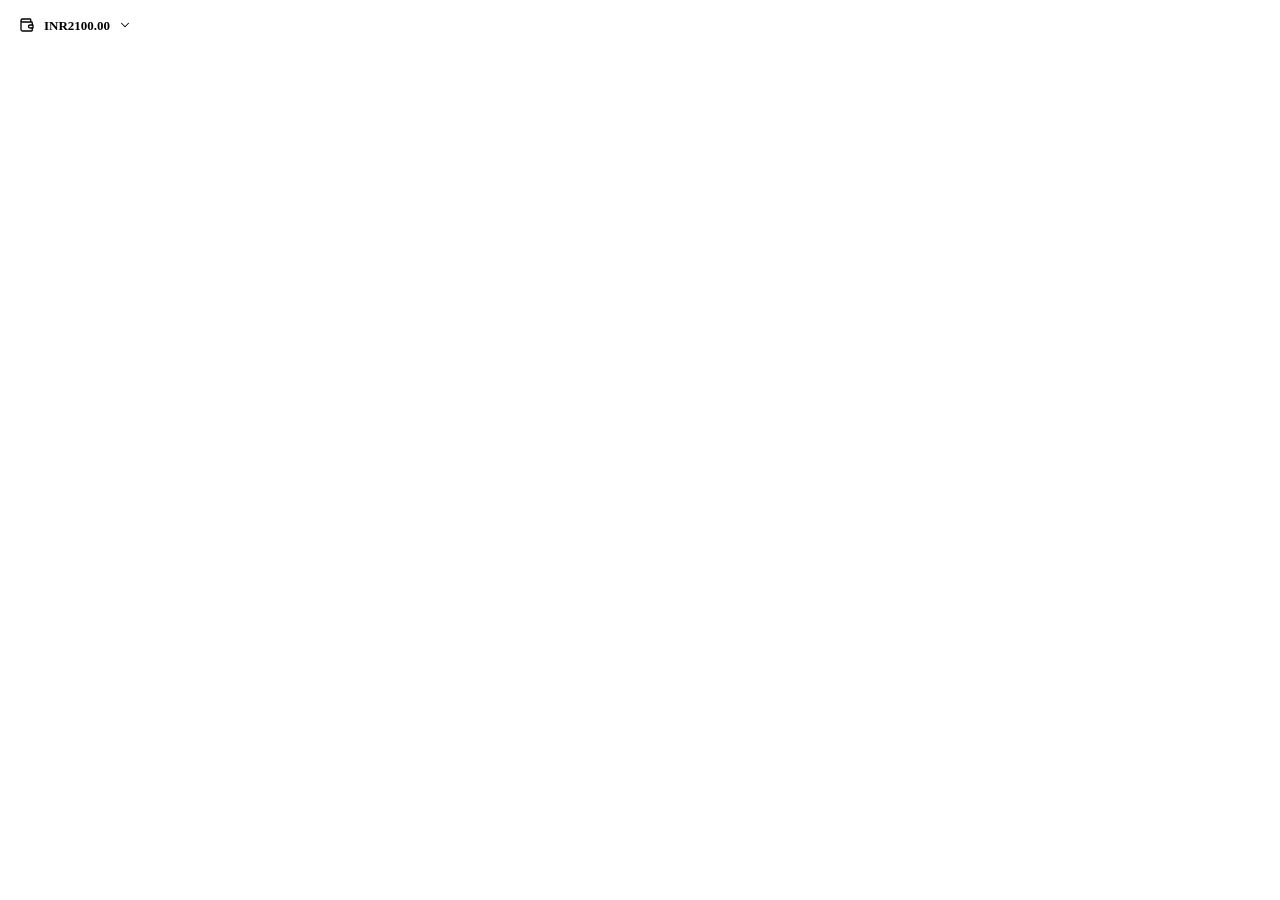
it: AgentSharingWalletView › opens a popover with the header, the current-period total and per-domain figures, no tabs or footer
The image size is (1280, 900).
Click the button.
click(75, 25)  # box [8,8,142,42]
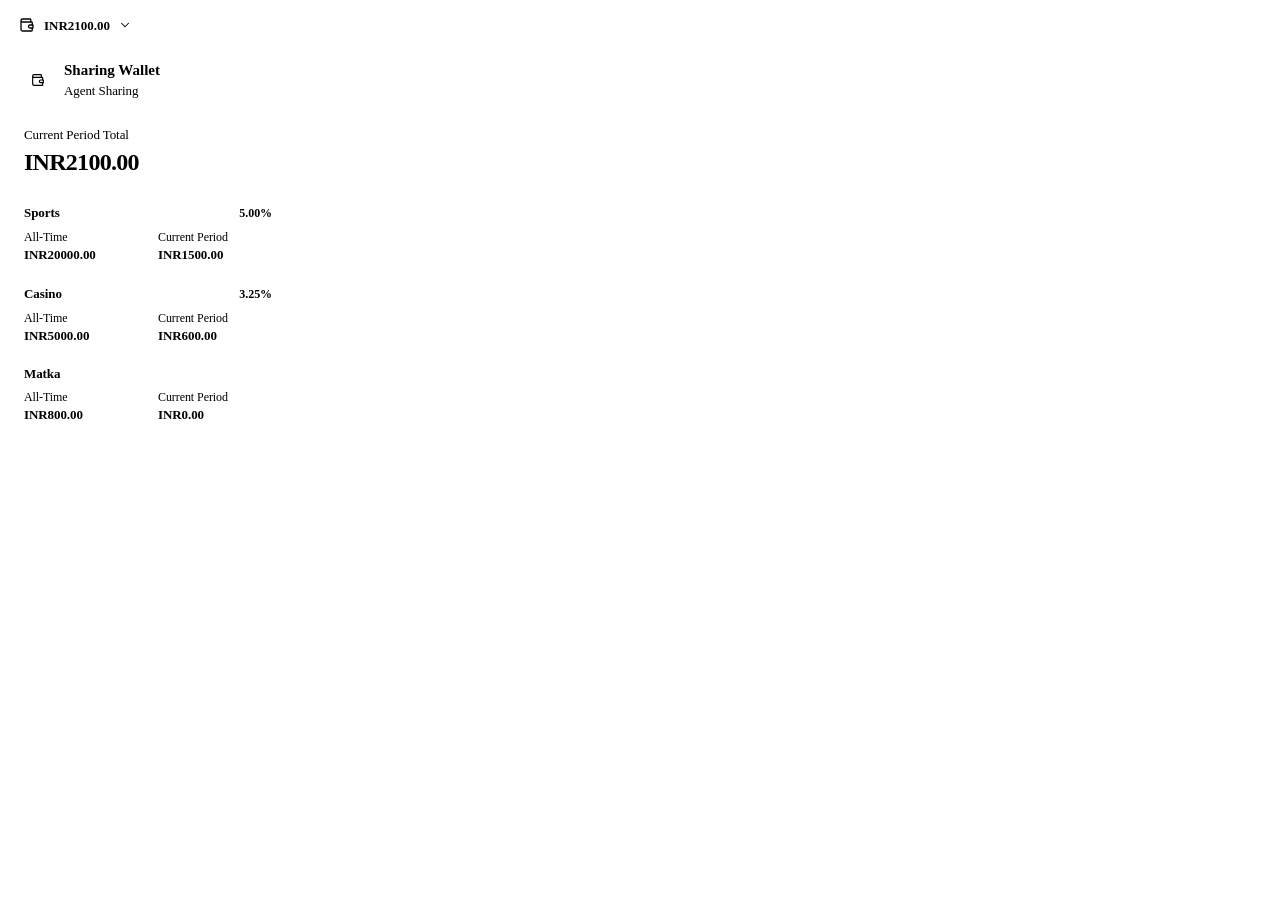
Check: the dialog is shown, box [8,48,296,440]
Check: the text "Sharing Wallet" is shown, box [64,62,160,78]
Check: the text "Agent Sharing" is shown, box [64,82,138,98]
